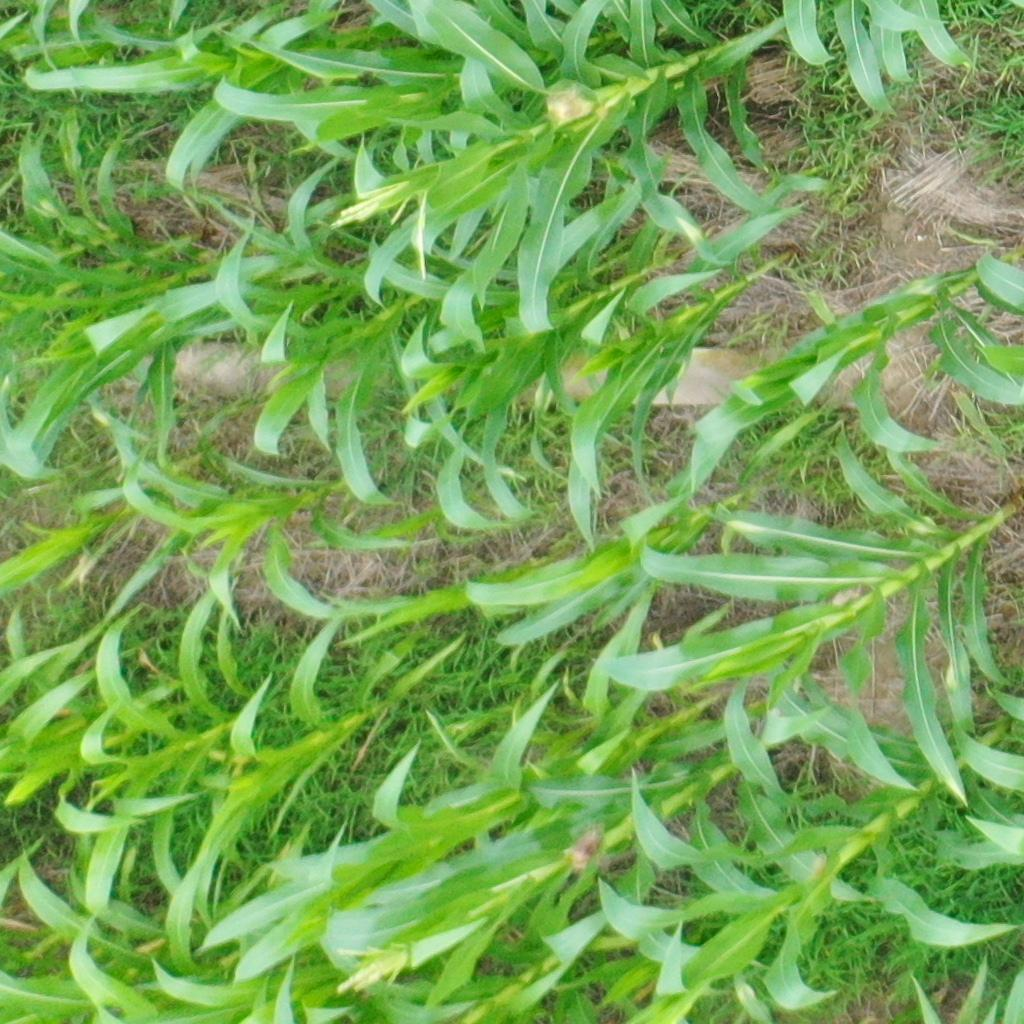Tassel: (326, 179, 436, 279), (325, 936, 401, 997)
